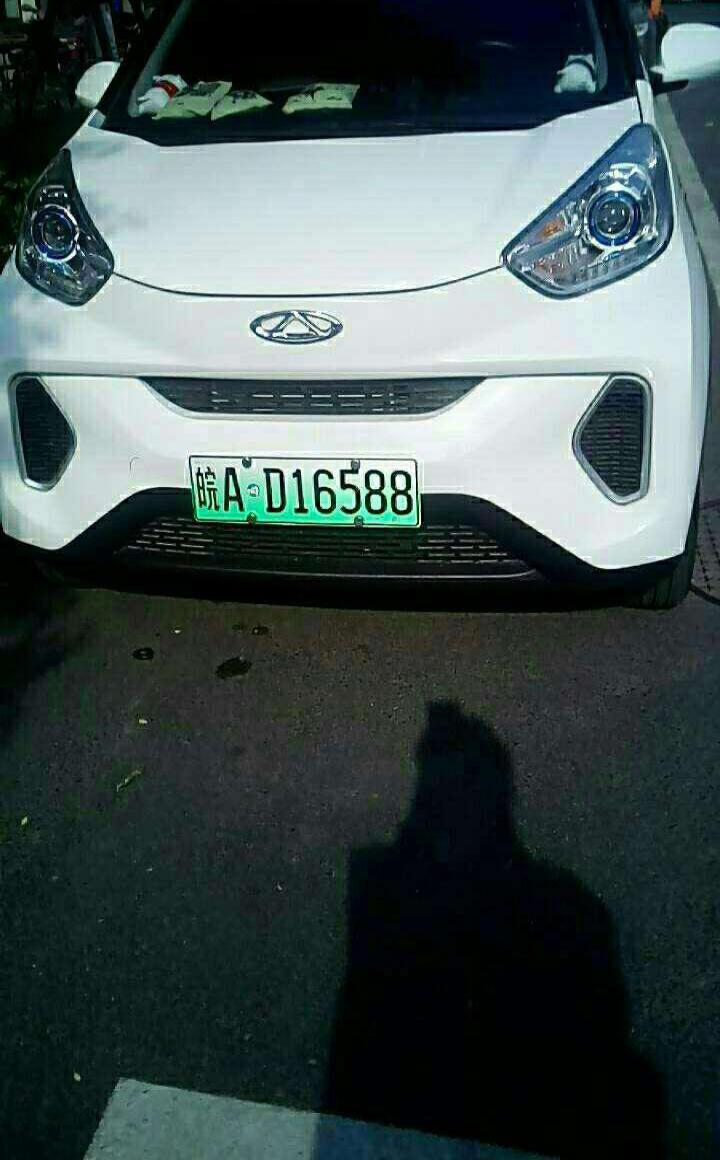car: (186, 452, 427, 533)
